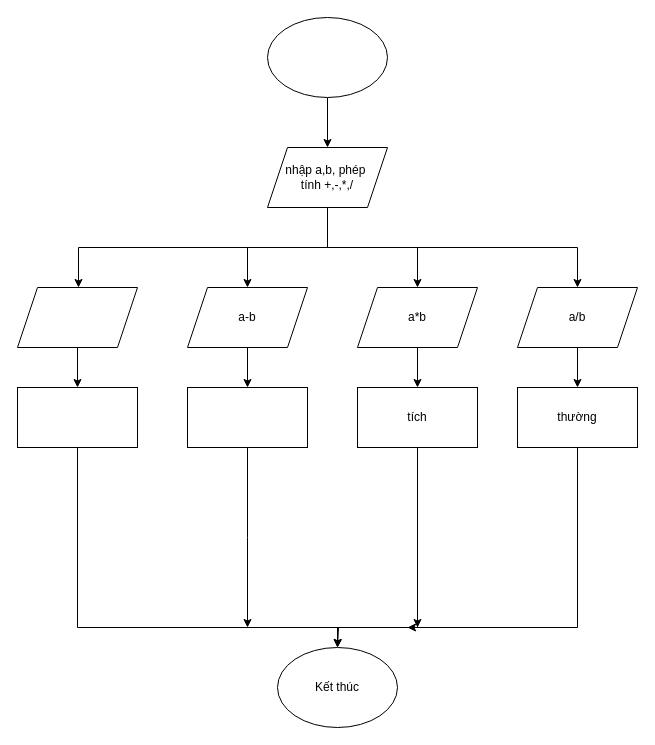
Some shapes in this 655 by 745 pixel diagram are drawn without their labels. The centre of each missing label's shape, as x and y in pixels:
a+b: (x=77, y=317)
Bắt đầu: (x=327, y=57)
hiệu: (x=247, y=417)
tổng: (x=77, y=417)
